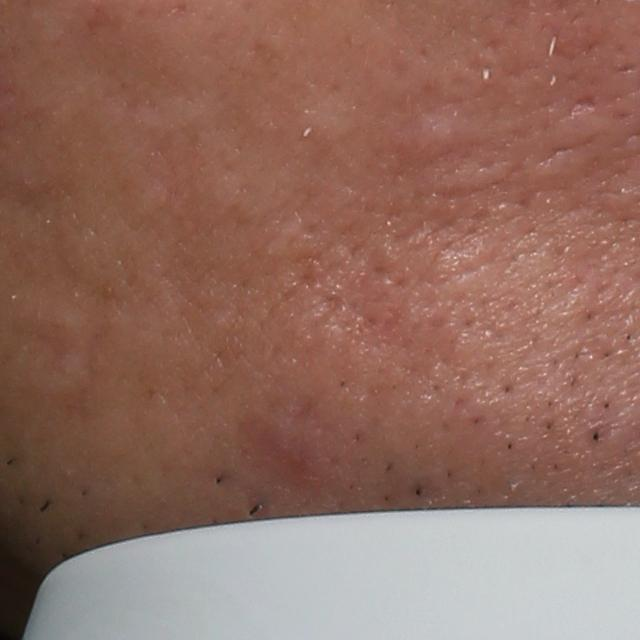atrophic_scar: (565, 88, 597, 120)
hypertrophic_scar: (400, 103, 472, 155), (293, 97, 361, 152)
